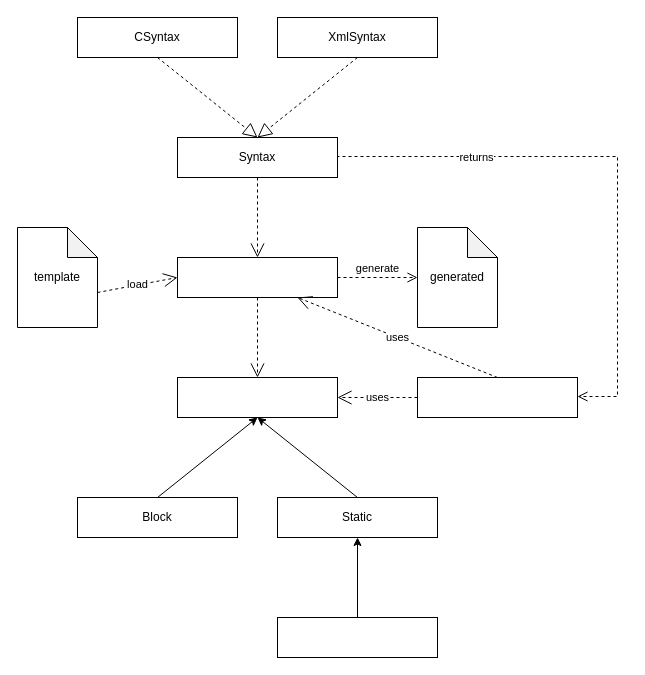
This 645x675 diagram has some shape labels left out. Here are the shapes that lost their labels. From the top down, the centre of each, then its label:
the point at 257,277: Document
the point at 257,397: Node
the point at 497,397: SyntaxMatch
the point at 357,637: Variable
